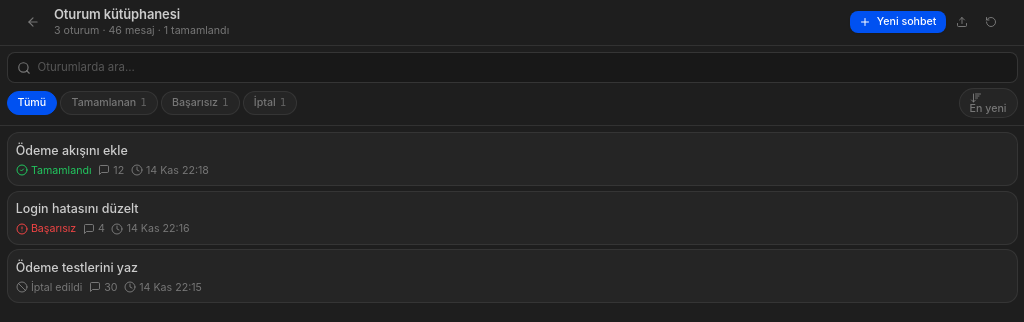
Test: HistoryView: arama › eşleşme yoksa temizleme düğmesi gösterir
Expected: the text "Ödeme akışını ekle" is shown, [16,143,128,158]
Type "yok-boyle-bir-sey" into the search field labelled "Oturumlarda ara" at (512,68), box [6,52,1018,83]
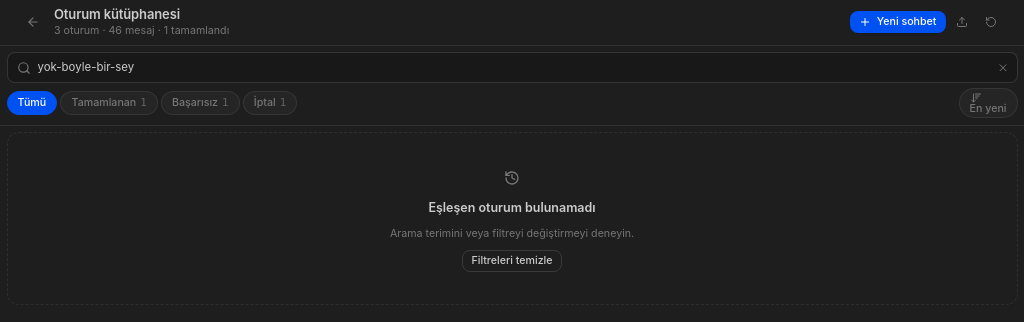
Now the text "Eşleşen oturum bulunamadı" is shown, box [428,200,596,218]
Now the button "Filtreleri temizle" is shown, box [462,250,562,272]
